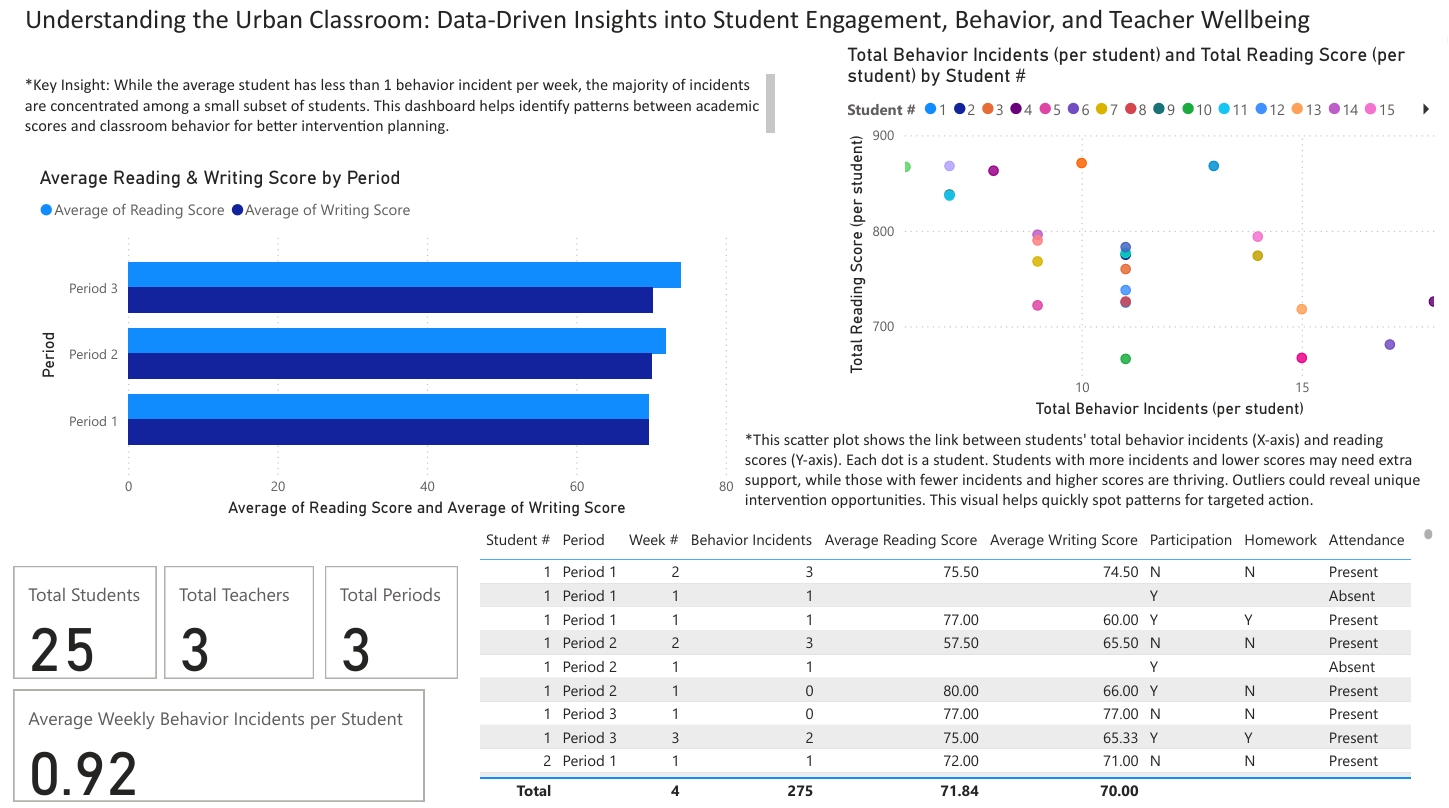

Layout of this report page (visuals, bound fields, positions):
{"tool":"powerbi","page":{"name":"Page 1","canvas":[1280,720],"ordinal":0},"visuals":[{"type":"textbox","box":[9.6,0,1231.4,41],"z":0},{"type":"cardVisual","fields":{"Data":["Student_Data.Period"]},"box":[277.2,500.9,127.6,109.8],"z":1000},{"type":"cardVisual","fields":{"Data":["Teacher_Wellbeing.Teacher Name"]},"box":[134.5,500.9,142.7,109.8],"z":2000},{"type":"cardVisual","fields":{"Data":["Student_Data.Behavior Incidents"]},"box":[0,610.6,374.6,109.8],"z":3000},{"type":"clusteredBarChart","title":"Average Reading & Writing Score by Period","fields":{"Category":["Student_Data.Period"],"Y":["Student_Data.Reading Score","Student_Data.Writing Score"]},"box":[23.3,149.6,627.1,317],"z":4000},{"type":"scatterChart","fields":{"Series":["Merge2.Student #"],"Y":["Merge2.Reading Score"],"X":["Merge2.Behavior Incidents"]},"box":[741,41,539,338],"z":5000},{"type":"tableEx","fields":{"Values":["Merge2.Student #","Merge2.Period","Merge2.Week","Merge2.Behavior Incidents","Merge2.Reading Score","Merge2.Writing Score","Merge2.Participation","Merge2.Homework"]},"box":[518,467,746,253],"z":6000},{"type":"cardVisual","fields":{"Data":["Merge2.Student #"]},"box":[0,500.9,137.2,109.8],"z":7000},{"type":"textbox","box":[10,64,677,63],"z":8000},{"type":"textbox","box":[650,379,614,88],"z":9000}]}

Visuals, with their boxes in screenshot pixels (x1, y1, x2, y2), scaled from the page's 1280x720 canvas onto the 1449x808 screenshot:
textbox: [x1=11, y1=0, x2=1405, y2=46]
cardVisual - Student_Data.Period: [x1=314, y1=562, x2=458, y2=685]
cardVisual - Teacher_Wellbeing.Teacher Name: [x1=152, y1=562, x2=314, y2=685]
cardVisual - Student_Data.Behavior Incidents: [x1=0, y1=685, x2=424, y2=807]
"Average Reading & Writing Score by Period" clusteredBarChart: [x1=26, y1=168, x2=736, y2=524]
scatterChart - Merge2.Student # x Merge2.Reading Score: [x1=839, y1=46, x2=1448, y2=425]
tableEx - Merge2.Student # x Merge2.Period: [x1=586, y1=524, x2=1431, y2=807]
cardVisual - Merge2.Student #: [x1=0, y1=562, x2=155, y2=685]
textbox: [x1=11, y1=72, x2=778, y2=143]
textbox: [x1=736, y1=425, x2=1431, y2=524]
